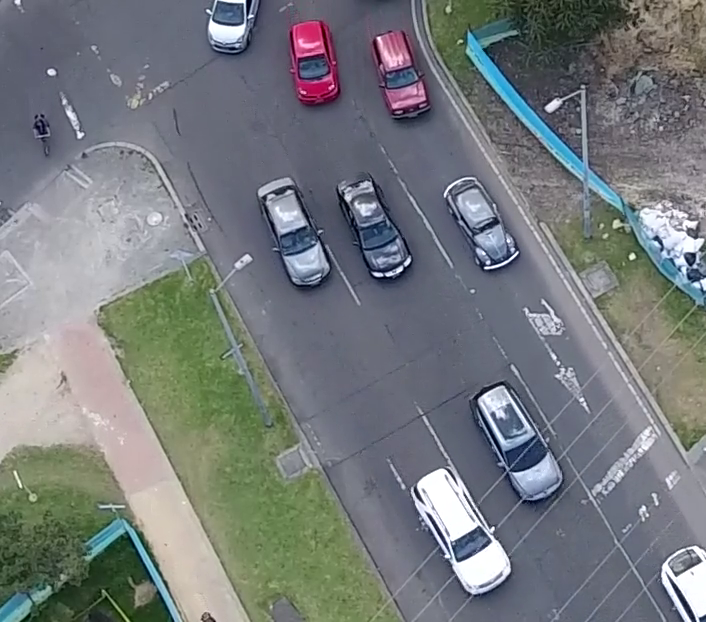car: (409, 465, 516, 598), (467, 381, 566, 506), (333, 170, 415, 286), (254, 175, 332, 291), (438, 173, 522, 273), (369, 29, 433, 123), (285, 16, 343, 108)
